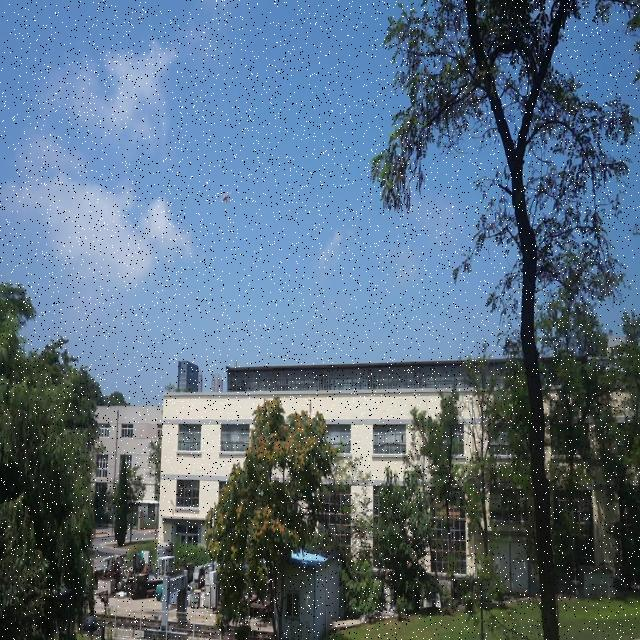UAV: (220, 190, 232, 203)
